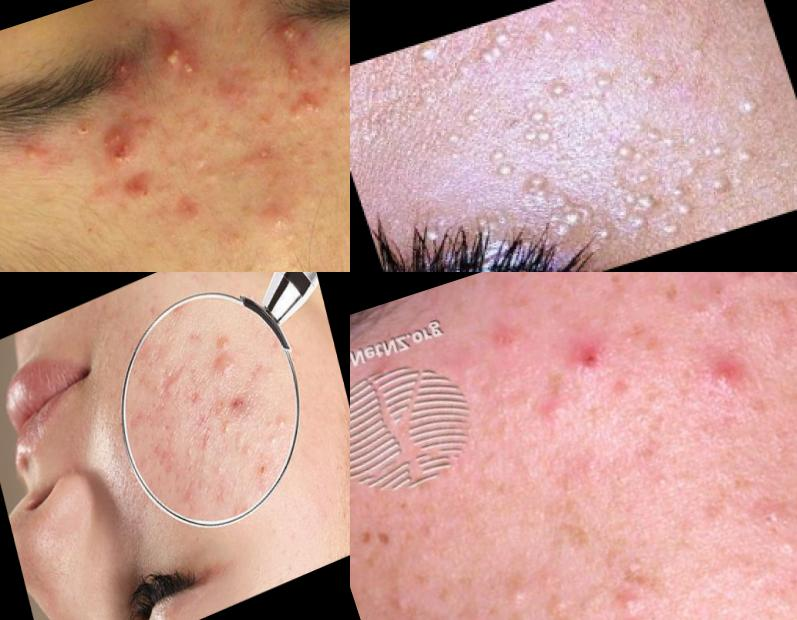acne_scars: (155, 349, 189, 393), (194, 412, 218, 453), (230, 388, 255, 415)
blackhead: (701, 273, 741, 314)
folliculitis: (274, 59, 314, 90), (247, 140, 282, 172)
milium: (585, 172, 707, 264), (580, 50, 677, 116), (601, 121, 681, 195), (439, 20, 527, 86), (521, 162, 589, 246), (690, 125, 765, 200), (423, 98, 500, 170), (530, 8, 600, 66), (511, 102, 561, 154), (480, 139, 523, 186), (728, 89, 767, 124), (546, 77, 573, 106)
papular: (516, 375, 573, 438), (490, 555, 540, 616), (116, 163, 163, 209), (573, 336, 611, 382), (754, 497, 789, 535), (266, 204, 300, 238), (210, 324, 239, 358), (613, 608, 662, 620)
purulent: (697, 343, 750, 393), (16, 138, 49, 174)
sebo-crystan-conglo: (89, 112, 145, 163), (155, 35, 193, 76), (271, 13, 300, 48)
whitehead: (185, 140, 227, 196), (372, 573, 420, 620), (156, 147, 186, 181), (270, 399, 291, 435), (261, 424, 285, 451), (240, 434, 260, 462), (219, 410, 235, 443), (213, 453, 233, 479), (184, 441, 198, 463)
